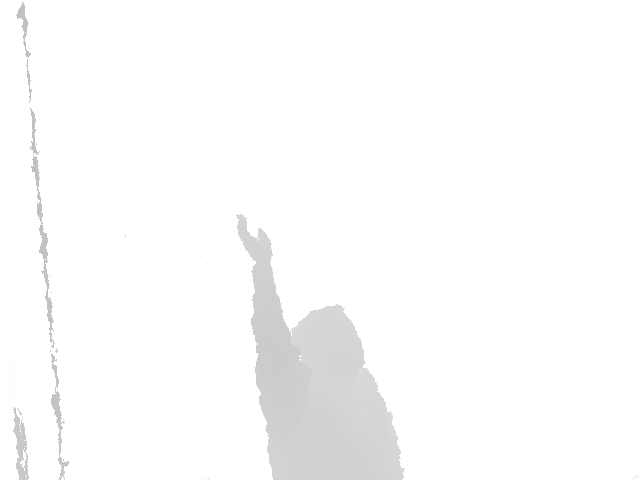hand: (235, 215, 273, 262)
head: (291, 304, 366, 390)
person: (235, 215, 407, 480)
